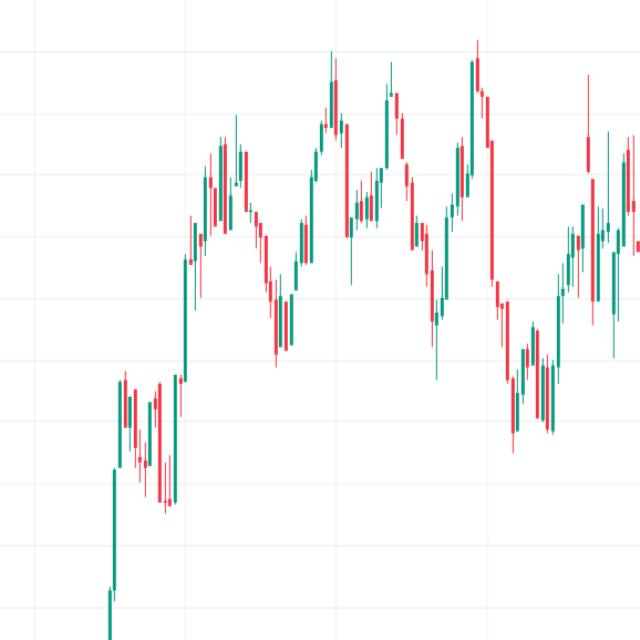Triple-Top: (298, 27, 517, 300)
